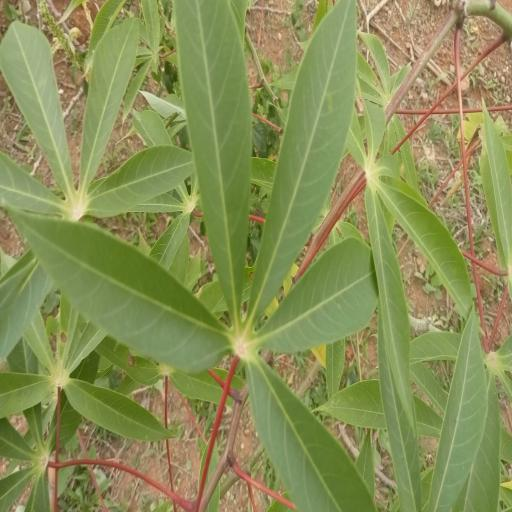Cassava_Healthy: (4, 0, 385, 512)
